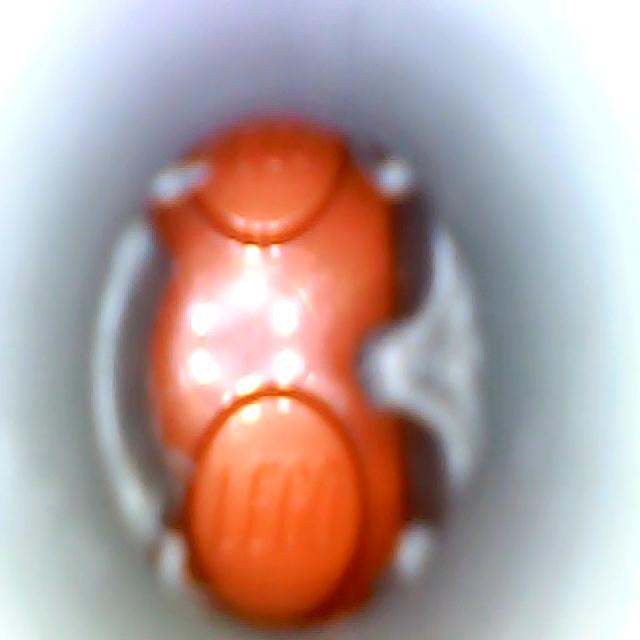studs: (189, 388, 364, 620), (198, 123, 347, 245)
